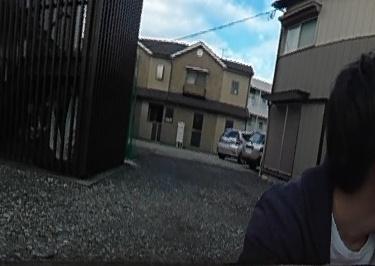person: (242, 51, 375, 266)
